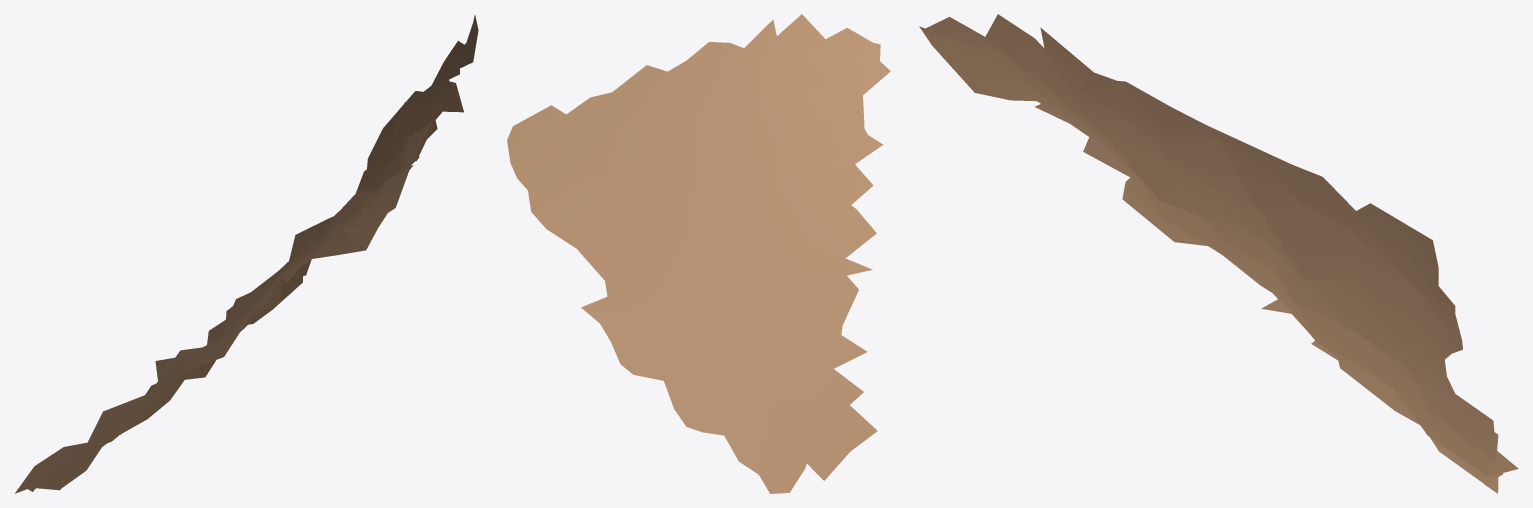
File: pottery_fragment_059.obj
3 renders of one model, left to right at view 1: azimuth 30°, elevation 25°; view 2: azimuth 150°, elevation 25°; view 3: azimuth 270°, elevation 25°, orthographic. The views are drawn at different scales.
Bounding box in the file's own units: 18.07 × 17.17 × 16.21.
